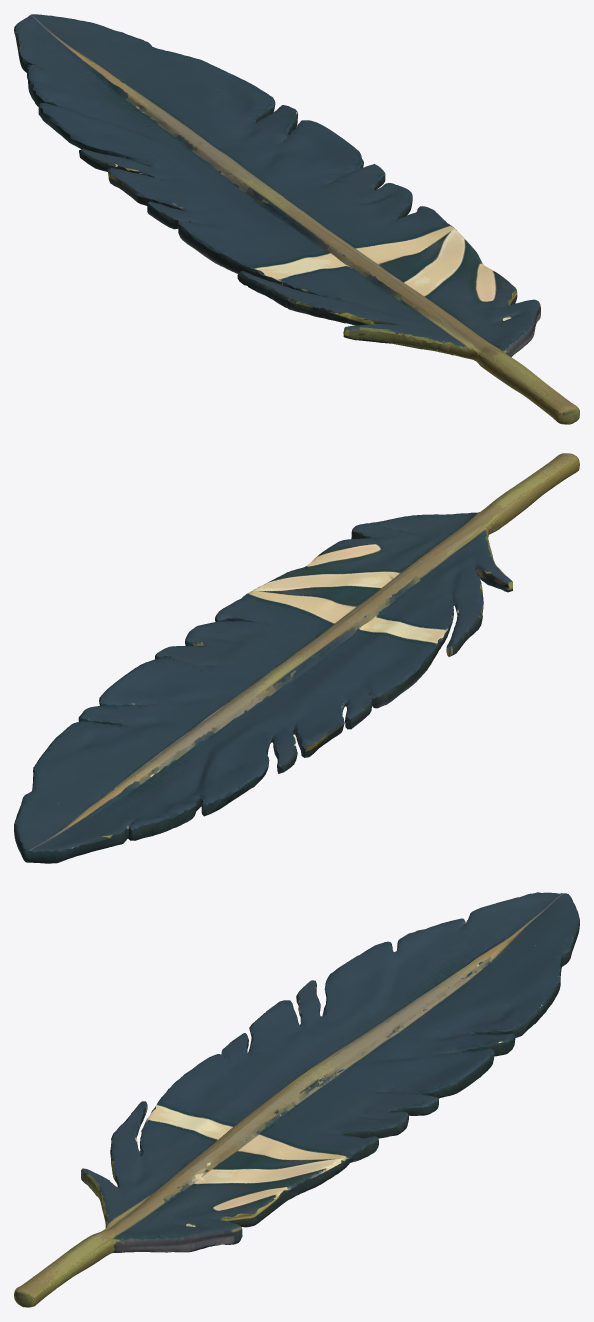
The model's file is item_thunder_roc_feather.glb.
The picture shows the model from 3 angles, top to bottom: view 1: azimuth 30°, elevation 25°; view 2: azimuth 150°, elevation 25°; view 3: azimuth 330°, elevation 25°; orthographic projection.
Visible parts, largest first — view 1: item_thunder_roc_feather; view 2: item_thunder_roc_feather; view 3: item_thunder_roc_feather.
Boxes of the visible parts, box(x1,y1,x2,y2) form: item_thunder_roc_feather: box(14, 14, 579, 424); item_thunder_roc_feather: box(14, 453, 579, 863); item_thunder_roc_feather: box(14, 892, 579, 1307).
Size of the model in its own units: 0.1048 by 0.011 by 0.45.
1 material, 1 textured.
